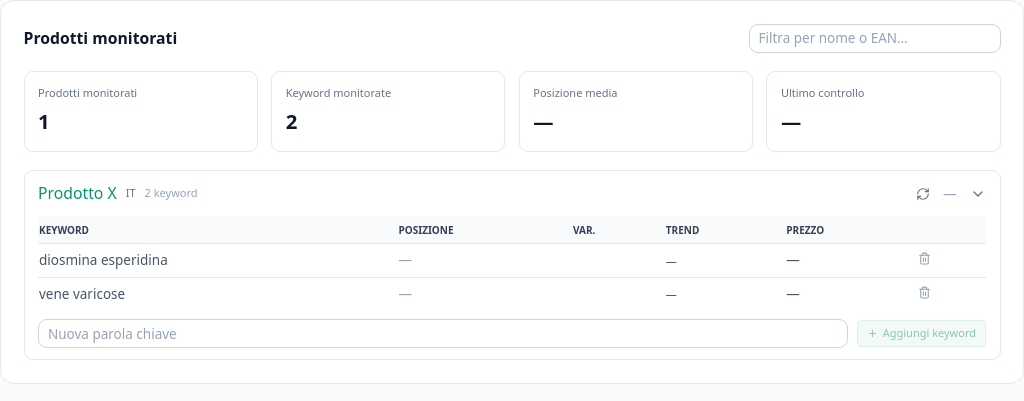
it: RedcareTrackedKeywords › removes a single keyword without removing the rest of the product's keywords
Expected: the text "Prodotto X" is shown, [38,182,117,205]
Expected: the text "2 keyword" is shown, [144,185,198,202]
Click the button named "Rimuovi diosmina esperidina" at (924, 259), box [918,252,931,265]
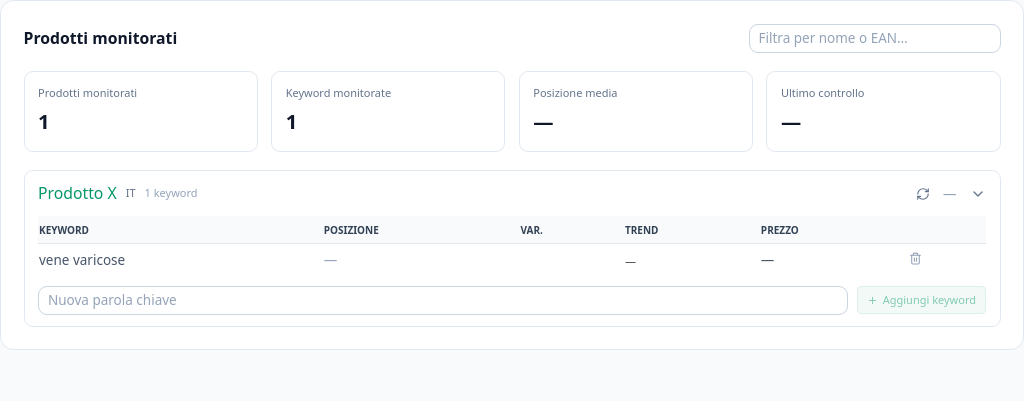
Expected: the text "vene varicose" is shown, [38,244,323,276]
Expected: the text "1 keyword" is shown, [144,185,198,202]
Expected: the text "diosmina esperidina" is gone
